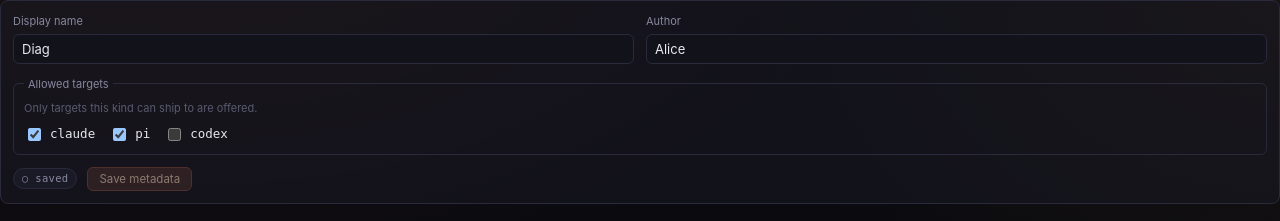
Test: MetadataForm — editing + save › a commit failure surfaces as an amber 'saved · not committed' cue, NOT an error
This screenshot has width=1280, height=221.
Step 1. Replace the text in the field labelled "Display name" with "Changed" → (324, 48), box [13,34,634,64]
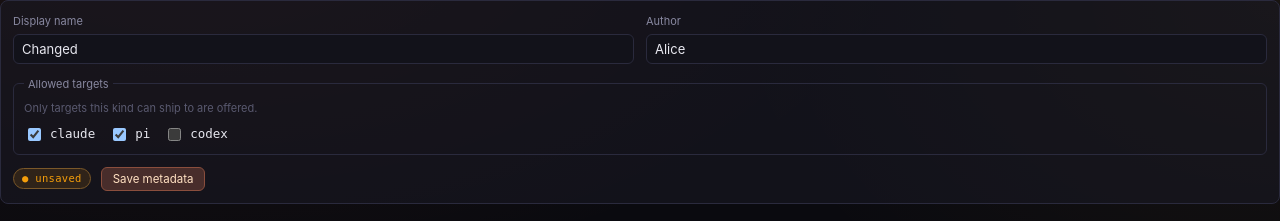
Step 2. Click the button "Save metadata" → (153, 178), box [101,166,205,190]
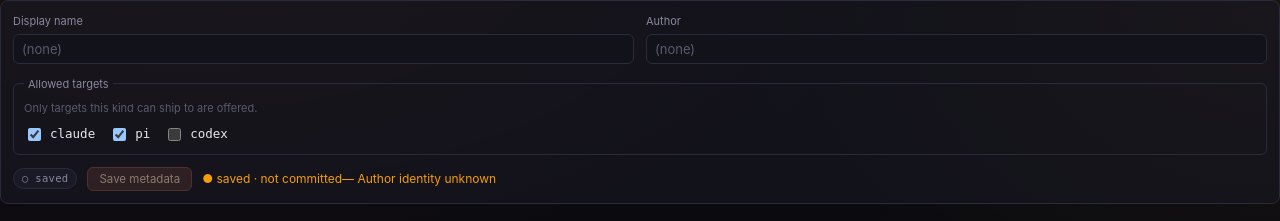
Check: the text "● saved · not committed— Author identity unknown" is shown, box [202,170,496,188]
